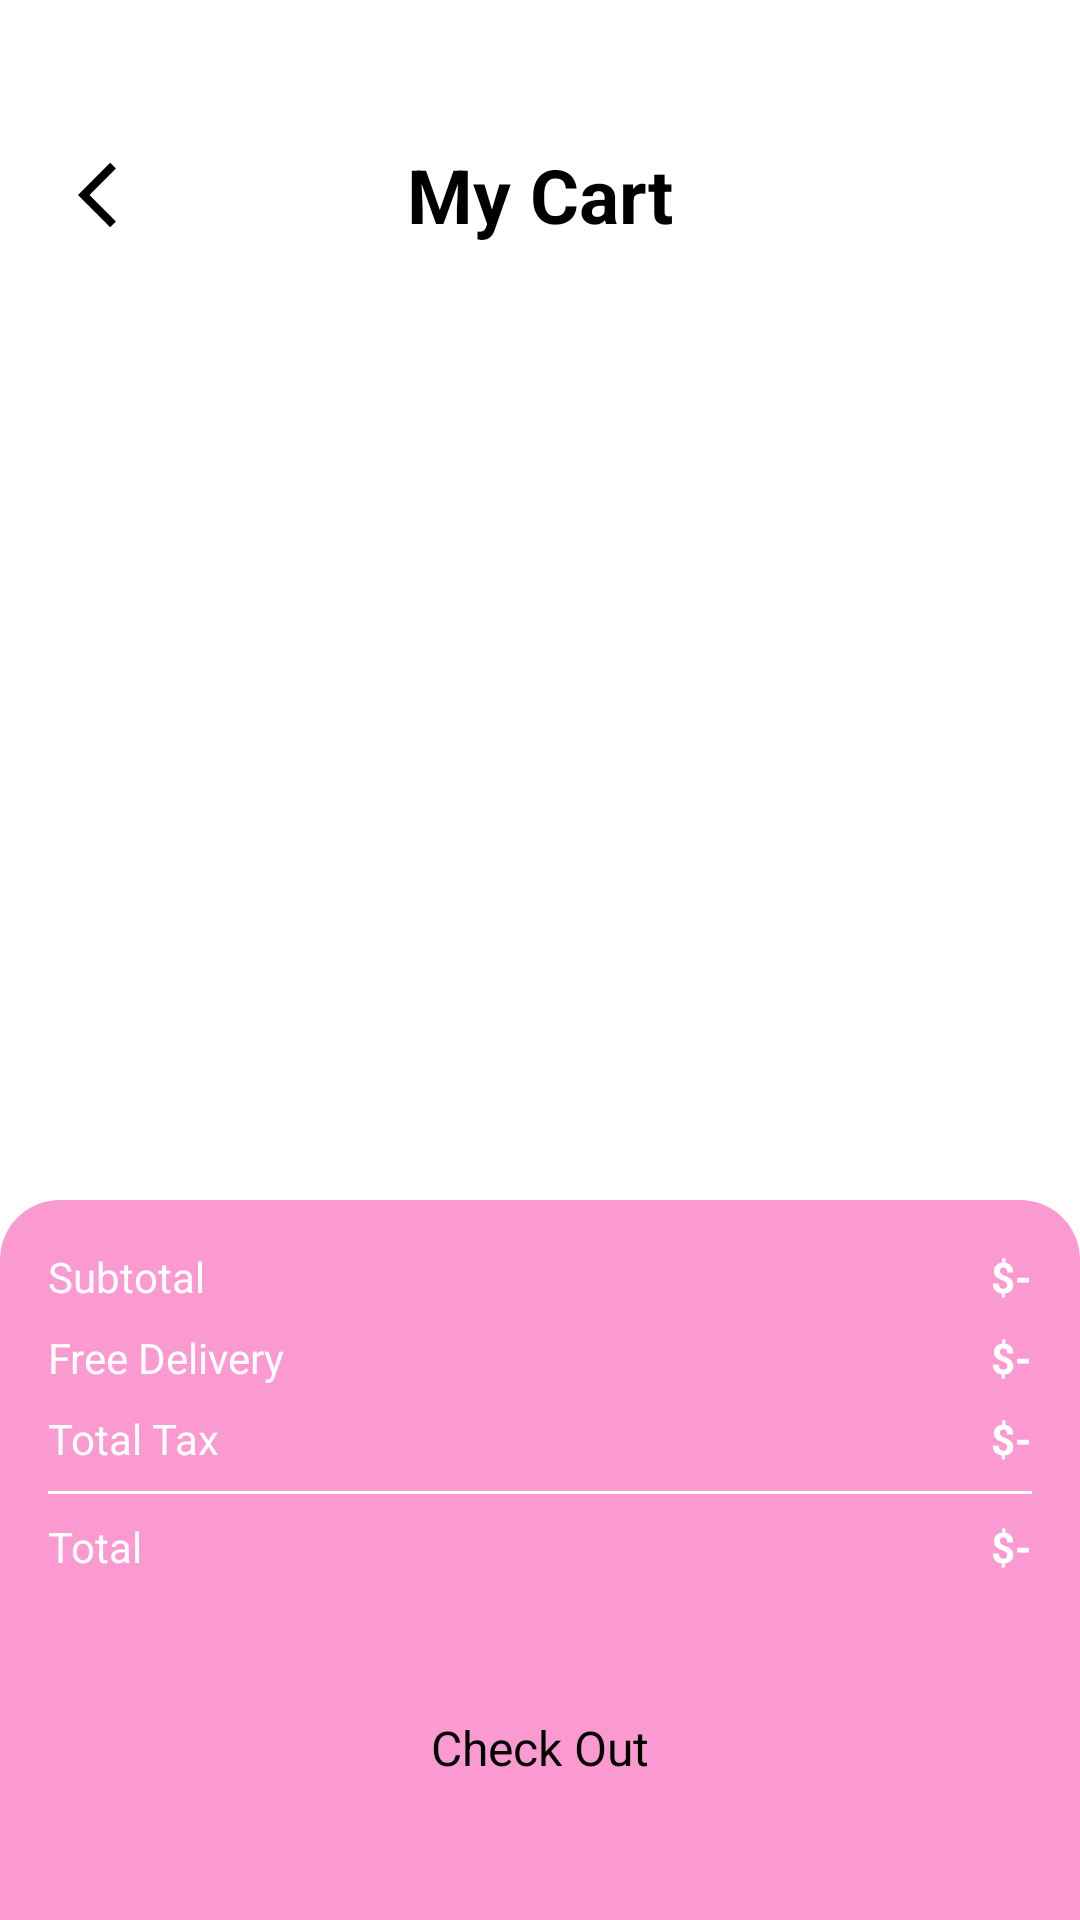

Where to tap for icons on this 1080×1920 app screen, as (x=x, y=y):
arrow back: (x=97, y=195)
